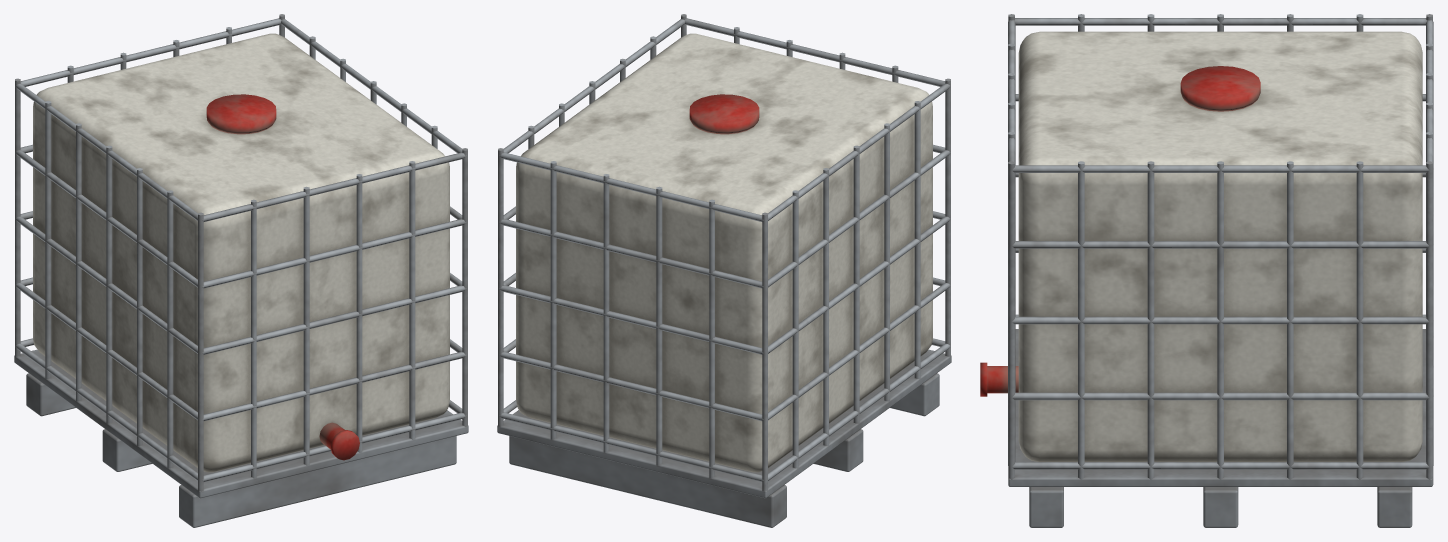
Rendered from lab_ibc.glb.
3 renders of one model, left to right at view 1: azimuth 30°, elevation 25°; view 2: azimuth 150°, elevation 25°; view 3: azimuth 270°, elevation 25°, orthographic. The views are drawn at different scales.
Visible parts, largest first — view 1: Zbiornik, Krata; view 2: Zbiornik, Krata; view 3: Zbiornik, Krata.
Part boxes in pixels (left/top/right/bottom): Zbiornik: left=33, top=33, right=449, bottom=472; Krata: left=14, top=14, right=468, bottom=527; Zbiornik: left=516, top=33, right=932, bottom=472; Krata: left=497, top=14, right=951, bottom=527; Zbiornik: left=980, top=31, right=1422, bottom=461; Krata: left=1008, top=14, right=1433, bottom=527.
Size of the model in its own units: 1.02 by 1.19 by 1.3.
Materials: 2 (2 with a texture image).
